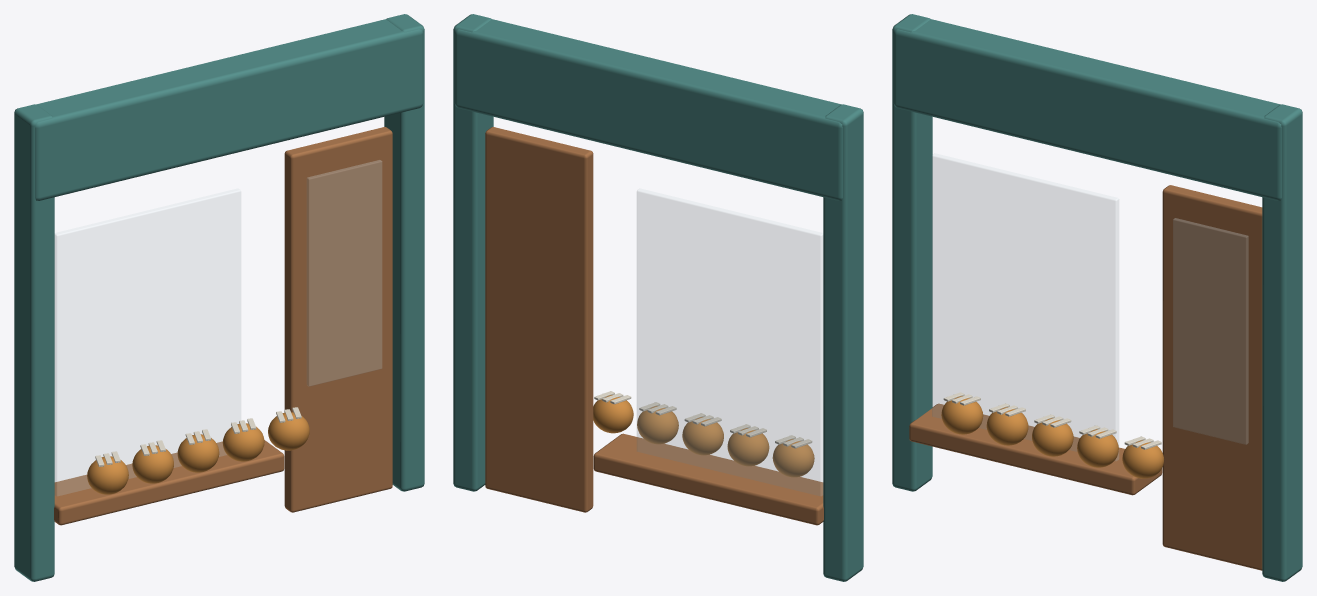
The model's file is wp-devanture-de-boulangerie.glb.
3 renders of one model, left to right at view 1: azimuth 30°, elevation 25°; view 2: azimuth 150°, elevation 25°; view 3: azimuth 330°, elevation 25°, orthographic.
Parts seen in each view (by area): view 1: wp-devanture-de-boulangerie; view 2: wp-devanture-de-boulangerie; view 3: wp-devanture-de-boulangerie.
Part boxes in pixels (x1=…): wp-devanture-de-boulangerie: x1=14, y1=14, x2=424, y2=581; wp-devanture-de-boulangerie: x1=453, y1=14, x2=863, y2=581; wp-devanture-de-boulangerie: x1=892, y1=14, x2=1302, y2=581.
Size of the model in its own units: 2.5 by 2.8 by 0.4.
